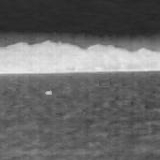Target: (44, 90, 53, 96)
